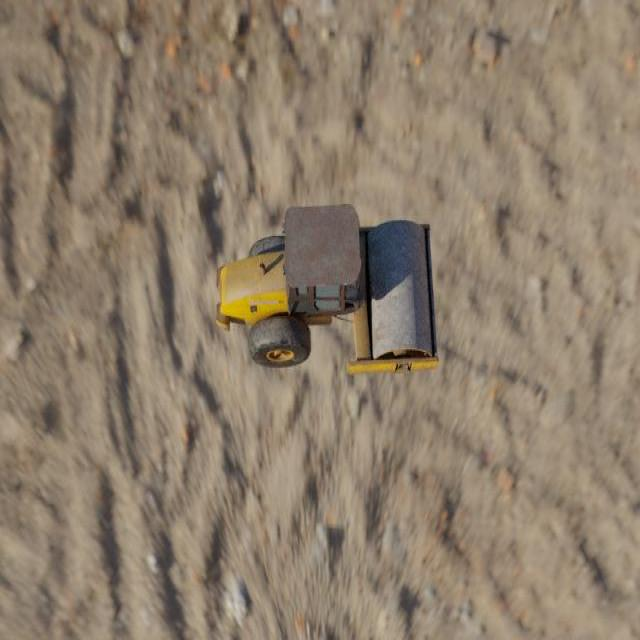Roller: (215, 202, 439, 374)
